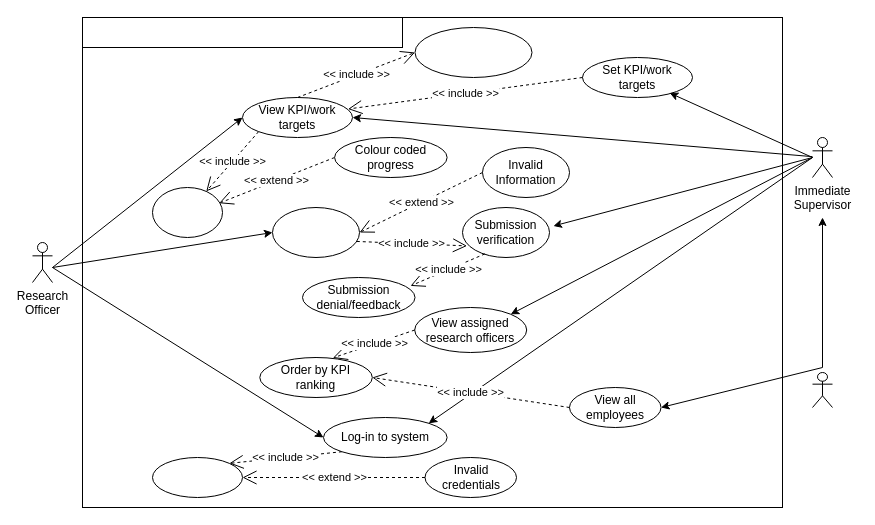
Some shapes in this 875 by 525 pixel diagram are drawn without their labels. Here are the shapes that lost their labels. From the top down, the centre of each, then its label:
At (242,32): "MIROS Road Safety Management System - Use Cases".
At (473,52): "Notify supervisor when met".
At (187,212): "Real-time updates".
At (316,232): "Submit research".
At (822,390): "Top Management".
At (197,477): "Validate user".
